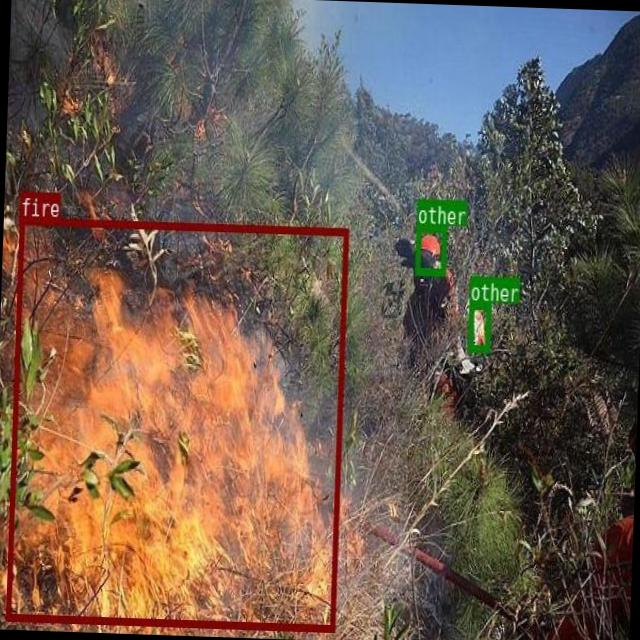fire: (5, 215, 348, 630)
